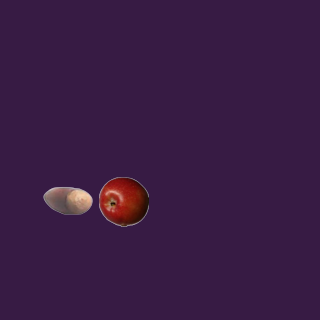Apple Braeburn: (98, 176, 148, 226)
Hazelnut: (42, 175, 92, 225)
